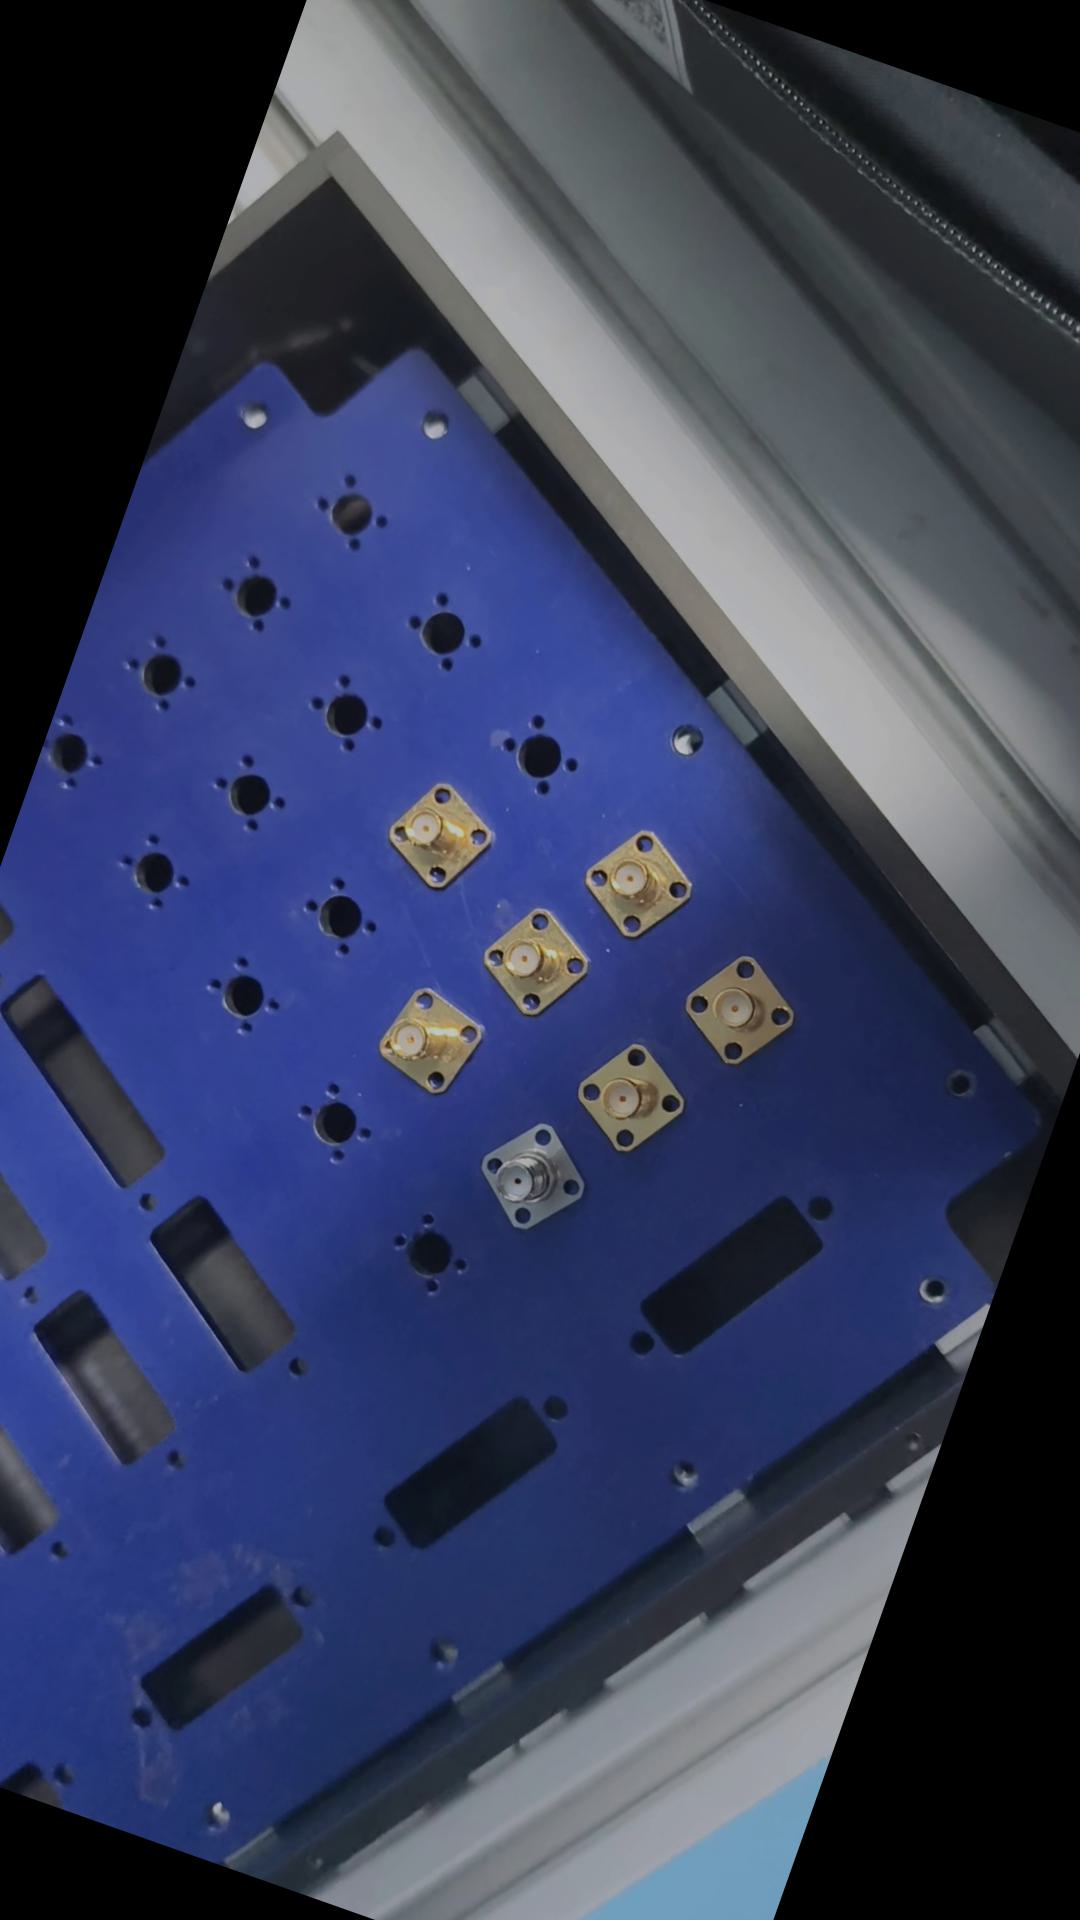SMA: (458, 1098, 604, 1250), (556, 1021, 702, 1164), (567, 804, 705, 949), (671, 940, 808, 1076), (349, 976, 491, 1105), (467, 893, 600, 1029), (376, 764, 502, 894)
